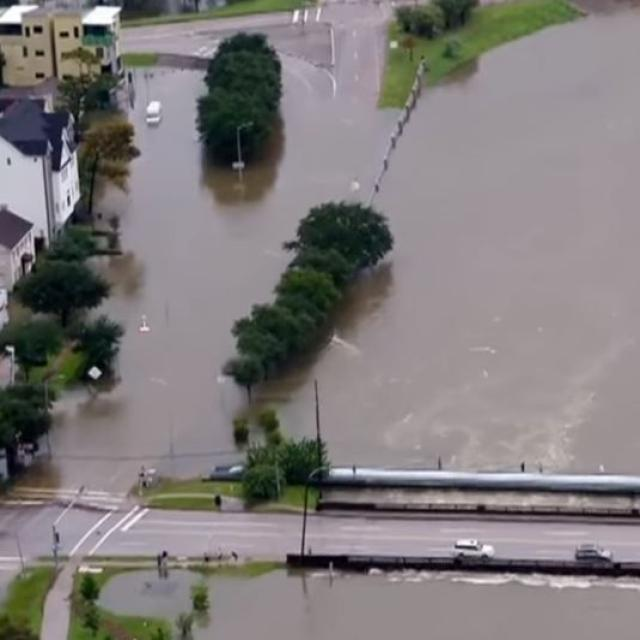flooded_areas: (101, 58, 638, 492)
